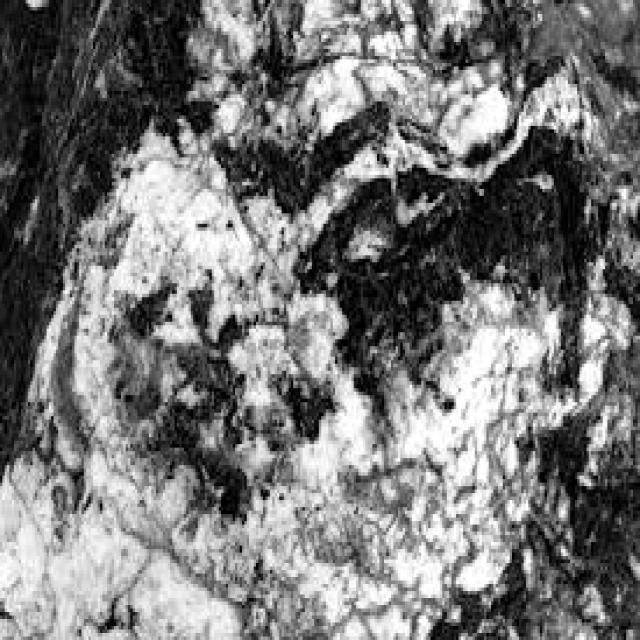Metamorphic: (2, 3, 636, 630)
